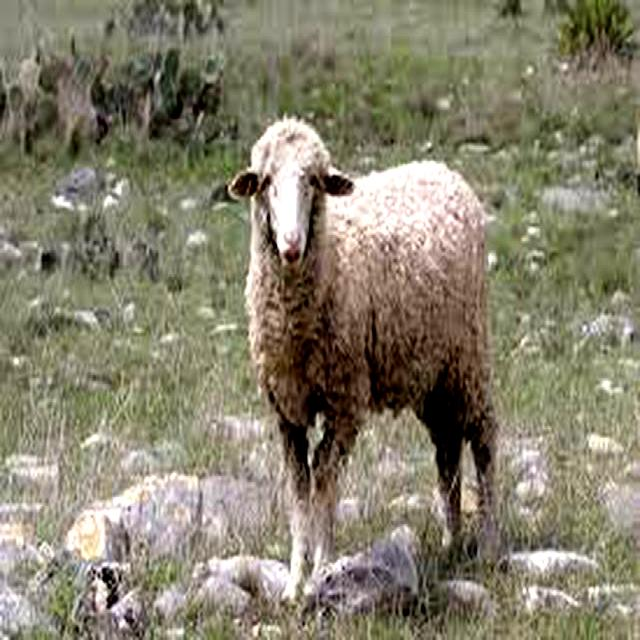sheep: (226, 125, 502, 602)
